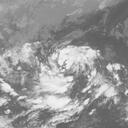cyclone: (54, 44, 99, 72)
